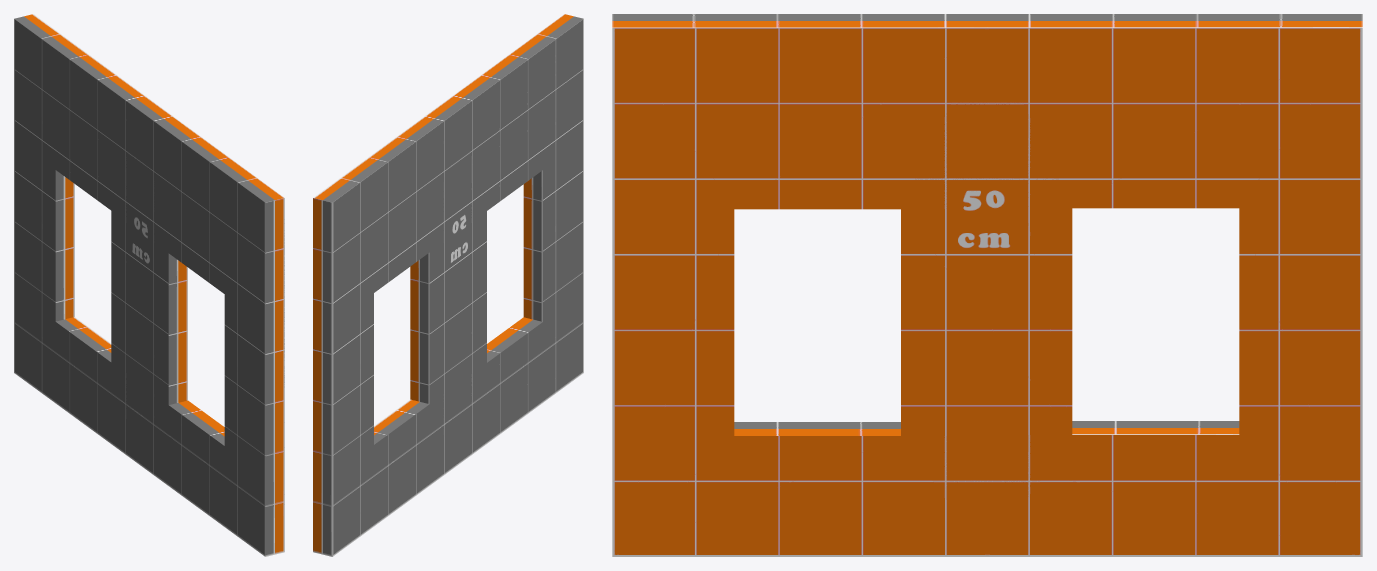
Rendered from casa_pared_02.fbx.
3 views of the same model, side by side, from view 1: azimuth 30°, elevation 25°; view 2: azimuth 150°, elevation 25°; view 3: azimuth 270°, elevation 25° (orthographic). The views are drawn at different scales.
Parts seen in each view (by area): view 1: casa_pared_02; view 2: casa_pared_02; view 3: casa_pared_02.
Part boxes in pixels (box(x1,y1,x2,y2)): casa_pared_02: box(14, 14, 284, 556); casa_pared_02: box(313, 14, 583, 556); casa_pared_02: box(612, 14, 1362, 556).
Bounding box in the file's own units: 20 × 350 × 450.
